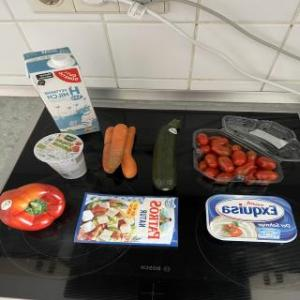bell_pepper: (0, 182, 62, 236)
carrot: (105, 120, 127, 172), (118, 123, 138, 177), (98, 123, 118, 175)
tomato: (194, 132, 282, 184)
zucchini: (149, 116, 185, 195)
